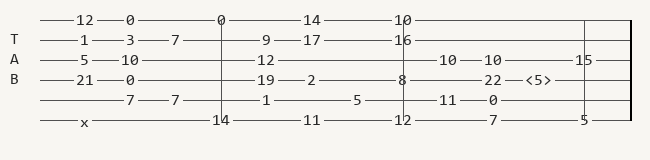0: (126, 13, 139, 27), (126, 73, 139, 87), (217, 13, 230, 27), (489, 93, 502, 107)
1: (80, 33, 93, 47), (262, 93, 275, 107)
10: (121, 53, 143, 67), (394, 13, 416, 27), (439, 53, 461, 67), (484, 53, 506, 67)
11: (303, 113, 325, 127), (439, 93, 461, 107)
12: (76, 13, 98, 27), (257, 53, 279, 67), (394, 113, 416, 127)
14: (212, 113, 234, 127), (303, 13, 325, 27)
15: (575, 53, 597, 67)
16: (394, 33, 416, 47)
17: (303, 33, 325, 47)
19: (257, 73, 279, 87)
2: (307, 73, 320, 87)
21: (76, 73, 98, 87)
22: (484, 73, 506, 87)
3: (126, 33, 139, 47)
5: (80, 53, 93, 67), (353, 93, 366, 107), (580, 113, 593, 127)
7: (126, 93, 139, 107), (171, 93, 184, 107), (171, 33, 184, 47), (489, 113, 502, 127)
8: (398, 73, 411, 87)
9: (262, 33, 275, 47)
harmonic: (525, 73, 556, 87)
x: (80, 115, 93, 126)
